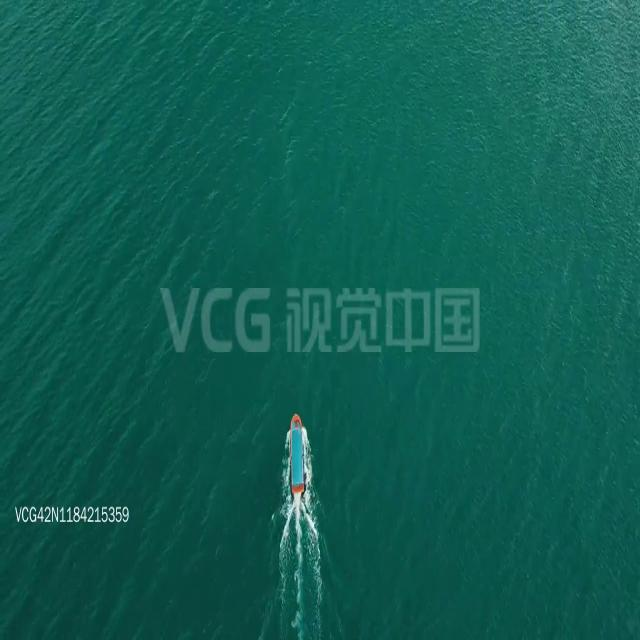houseboat: (286, 408, 308, 498)
